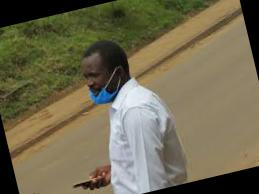mask_weared_incorrect: (82, 61, 112, 107)
